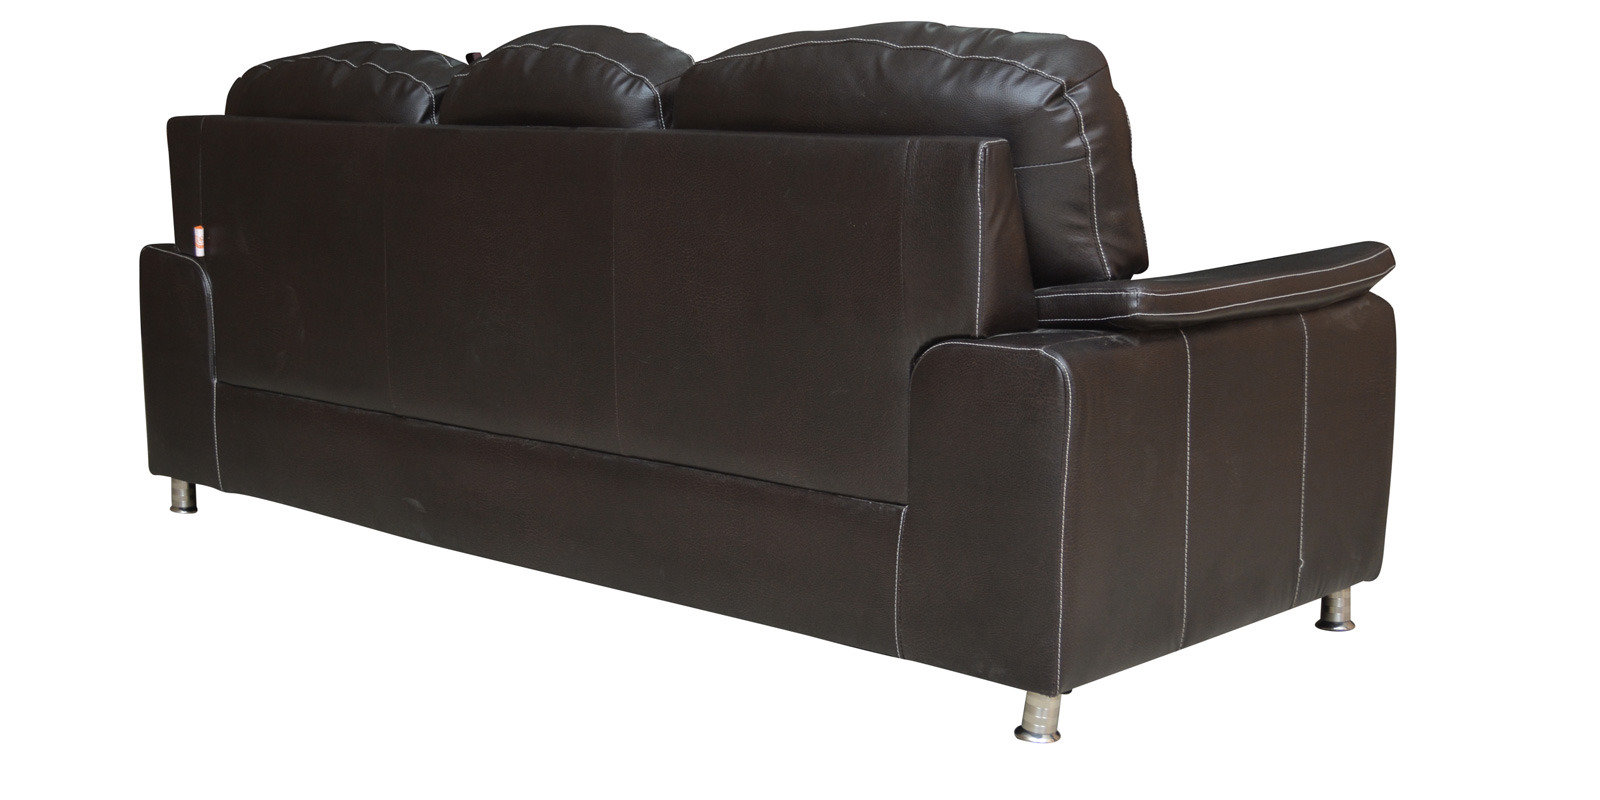Magnum Three Seater Sofa in Black Leatherette by Crystal Furnitech: (136, 18, 1400, 744)
